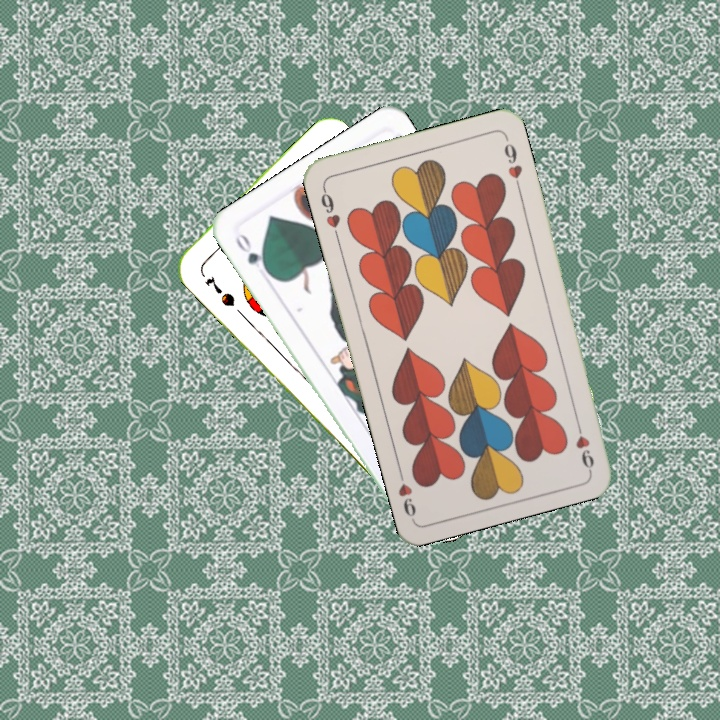GO: (231, 229, 273, 278)
H9: (316, 182, 343, 240), (571, 414, 597, 473)
S7: (200, 272, 237, 309)
